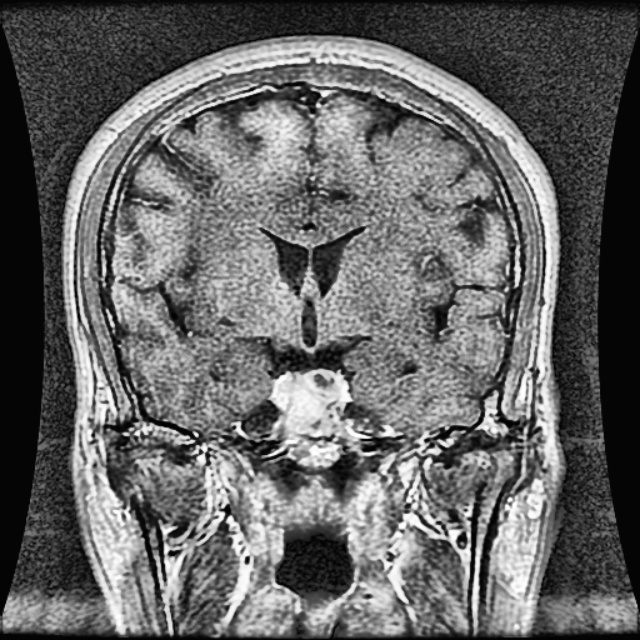Pituitary: (272, 373, 340, 433)
